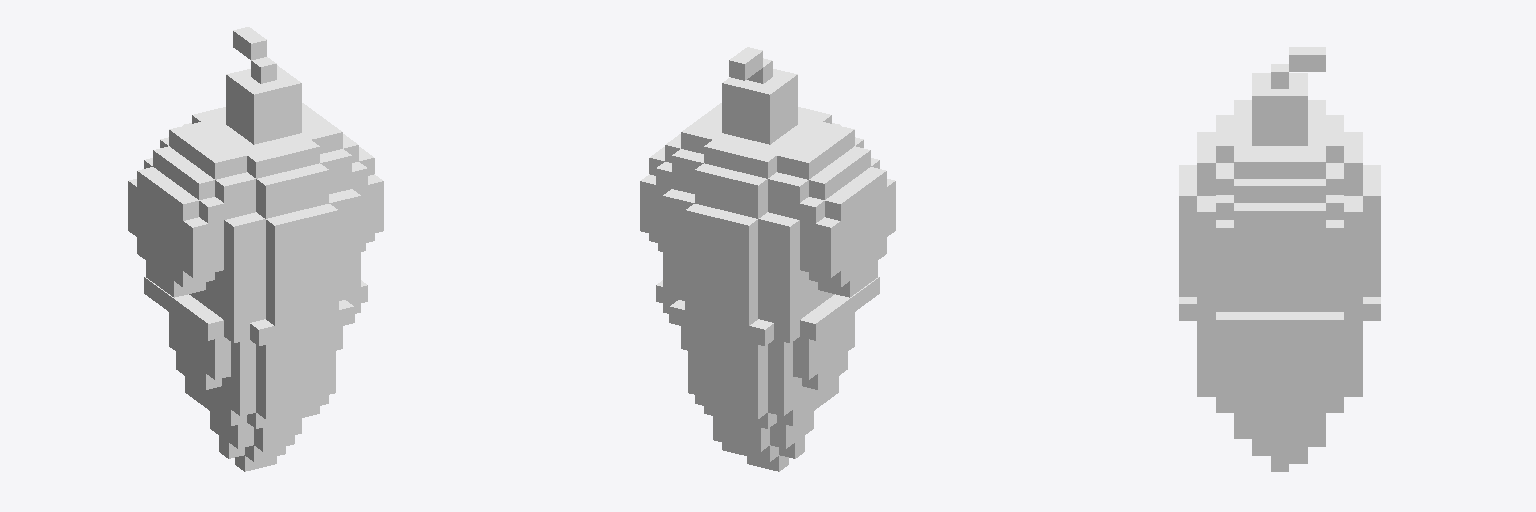
File: car-icecream.obj
3 views of the same model, side by side, from view 1: azimuth 30°, elevation 25°; view 2: azimuth 150°, elevation 25°; view 3: azimuth 270°, elevation 25° (orthographic).
Parts seen in each view (by area): view 1: car:icecream; view 2: car:icecream; view 3: car:icecream.
Part boxes in pixels (left/top/right/bottom): car:icecream: left=128, top=27, right=383, bottom=471; car:icecream: left=640, top=47, right=895, bottom=471; car:icecream: left=1179, top=47, right=1380, bottom=471.
Bounding box in the file's own units: 12 × 25 × 11.